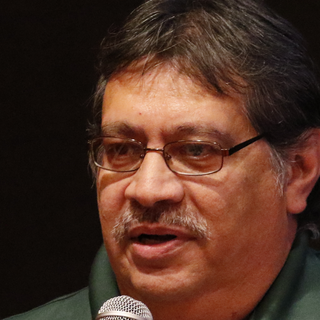eye: (176, 139, 219, 164), (104, 139, 143, 163)
